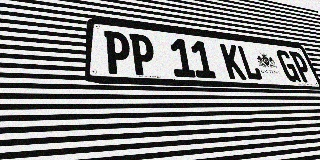1: (168, 38, 196, 78), (189, 40, 216, 78)
G: (275, 50, 301, 82)
K: (219, 43, 247, 80)
L: (236, 45, 263, 80)
P: (129, 33, 157, 76), (104, 31, 131, 75), (288, 51, 315, 83)
